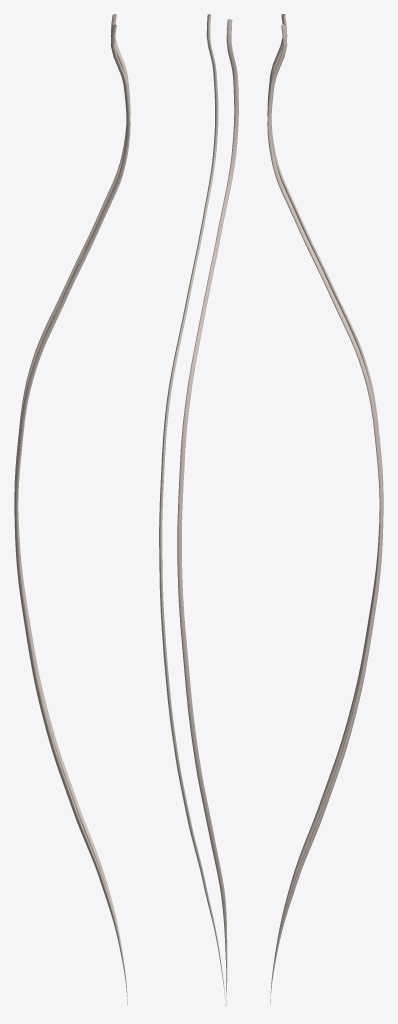
Rendered from nervoso-lateral-corticospinal-tract.glb.
3 renders of one model, left to right at view 1: azimuth 90°, elevation 25°; view 2: azimuth 150°, elevation 25°; view 3: azimuth 270°, elevation 25°, orthographic.
Visible parts, largest first — view 1: Lateral corticospinal tract; view 2: Lateral corticospinal tract; view 3: Lateral corticospinal tract.
Boxes of the visible parts, box(x1,y1,x2,y2) form: Lateral corticospinal tract: box(14, 14, 130, 1004); Lateral corticospinal tract: box(159, 14, 238, 1005); Lateral corticospinal tract: box(267, 14, 383, 1004).
Size of the model in its own units: 0.0126 by 0.4901 by 0.0521.
